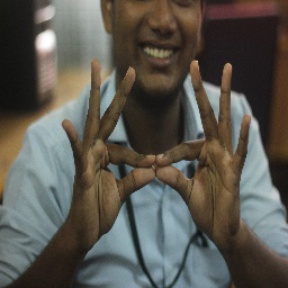B: (94, 121, 211, 213)
